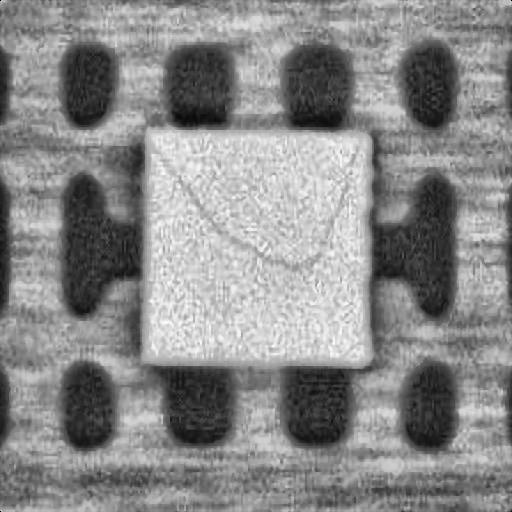DIE_CRACK: (143, 135, 358, 263)
